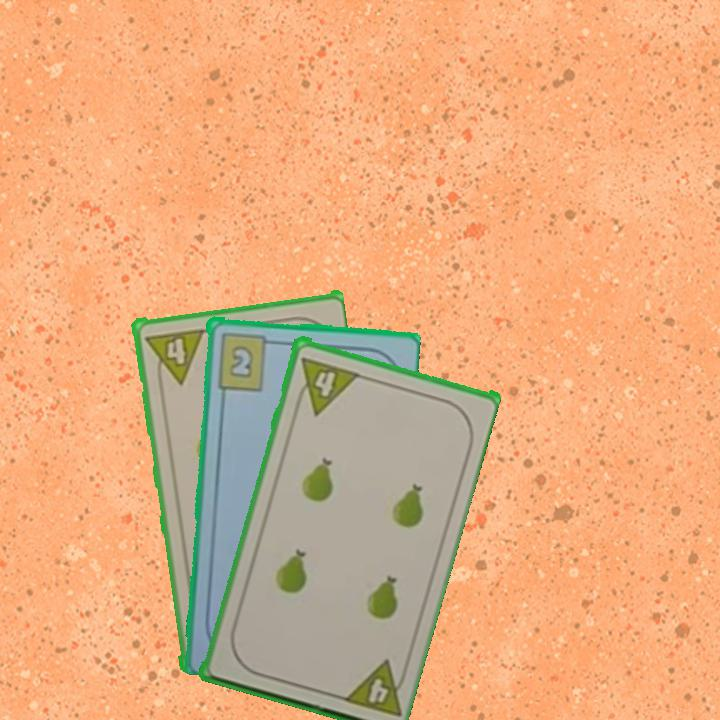2b: (213, 329, 278, 393)
4p: (337, 655, 412, 719), (291, 353, 360, 417), (140, 325, 206, 388)
